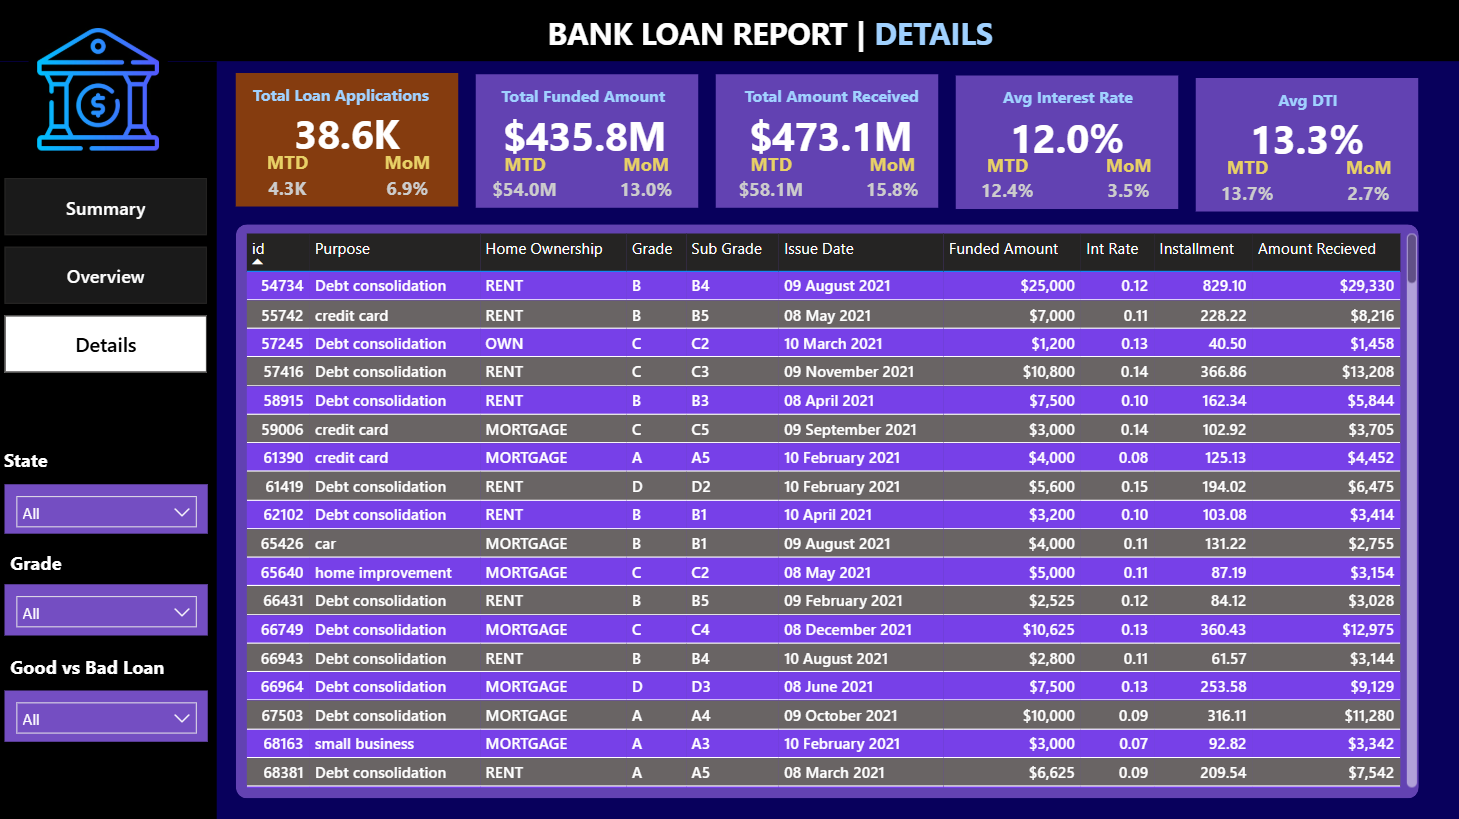

The dashboard page shown, as its layout file describes it:
{"tool":"powerbi","page":{"name":"Details","canvas":[1280,720],"ordinal":2},"visuals":[{"type":"shape","box":[0,0,1280.2,55.6],"z":0},{"type":"shape","box":[0,55.6,192,663.9],"z":1000},{"type":"textbox","box":[451.6,8.1,448.9,47.5],"z":2000},{"type":"shape","box":[208.3,65.3,194.4,116.7],"z":3000},{"type":"card","fields":{"Values":["bank_loan_data.Total Loan Applications"]},"box":[208.3,98.6,194.4,41.7],"z":4000},{"type":"textbox","box":[218.1,69.4,176.4,29.2],"z":5000},{"type":"card","title":"MTD","fields":{"Values":["bank_loan_data.MTD Loan Applications"]},"box":[218.1,131.9,70.8,50],"z":6000},{"type":"card","title":"MoM","fields":{"Values":["bank_loan_data.MoM Loan Applications"]},"box":[323.6,131.9,70.8,50],"z":7000},{"type":"shape","box":[418.2,66.4,194.4,116.7],"z":8000},{"type":"card","fields":{"Values":["bank_loan_data.Total Funded Amount"]},"box":[416.1,99.7,194.4,41.7],"z":9000},{"type":"textbox","box":[425.8,70.6,176.4,29.2],"z":10000},{"type":"card","title":"MTD","fields":{"Values":["bank_loan_data.MTD Funded Amount"]},"box":[425.8,133.1,70.8,50],"z":11000},{"type":"card","title":"MoM","fields":{"Values":["bank_loan_data.MoM Total Funded Amount"]},"box":[531.4,133.1,70.8,50],"z":12000},{"type":"shape","box":[628.1,66.5,194.4,116.7],"z":13000},{"type":"card","fields":{"Values":["bank_loan_data.Total Amount Recieved"]},"box":[631.4,99.8,194.4,41.7],"z":14000},{"type":"textbox","box":[641.1,70.7,176.4,29.2],"z":15000},{"type":"card","title":"MTD","fields":{"Values":["bank_loan_data.MTD Total Amount Received"]},"box":[641.1,133.2,70.8,50],"z":16000},{"type":"card","title":"MoM","fields":{"Values":["bank_loan_data.MoM Total Amount Received"]},"box":[746.7,133.2,70.8,50],"z":17000},{"type":"shape","box":[838,67.7,194.4,116.7],"z":18000},{"type":"card","fields":{"Values":["bank_loan_data.Avg Intrest Rate"]},"box":[837.9,101.1,194.4,41.7],"z":19000},{"type":"textbox","box":[847.6,71.9,176.4,29.2],"z":20000},{"type":"card","title":"MTD","fields":{"Values":["bank_loan_data.MTD Avg Intrest Rate"]},"box":[847.6,134.4,70.8,50],"z":21000},{"type":"card","title":"MoM","fields":{"Values":["bank_loan_data.MoM Avg Intrest Rate"]},"box":[953.2,134.4,70.8,50],"z":22000},{"type":"shape","box":[1047.9,69.7,194.4,116.7],"z":23000},{"type":"card","fields":{"Values":["bank_loan_data.Avg DTI"]},"box":[1047.9,103.1,194.4,41.7],"z":24000},{"type":"textbox","box":[1057.6,73.9,176.4,29.2],"z":25000},{"type":"card","title":"MTD","fields":{"Values":["bank_loan_data.MTD Avg DTI"]},"box":[1057.6,136.4,70.8,50],"z":26000},{"type":"card","title":"MoM","fields":{"Values":["bank_loan_data.MoM Avg DTI"]},"box":[1163.2,136.4,70.8,50],"z":27000},{"type":"slicer","fields":{"Values":["bank_loan_data.address_state"]},"box":[6.8,424.5,177.7,43.4],"z":28000},{"type":"textbox","box":[1.4,387.9,88.2,36.6],"z":29000},{"type":"slicer","fields":{"Values":["bank_loan_data.grade"]},"box":[6.8,512.7,177.7,44.8],"z":30000},{"type":"textbox","box":[6.8,477.4,89.5,35.3],"z":31000},{"type":"textbox","box":[6.8,568.3,160,36.6],"z":32000},{"type":"slicer","fields":{"Values":["bank_loan_data.Good vs Bad Loan"]},"box":[6.8,604.9,177.7,44.8],"z":33000},{"type":"shape","box":[208.7,197.9,1033.9,501.9],"z":34000},{"type":"tableEx","fields":{"Values":["bank_loan_data.id","bank_loan_data.purpose","bank_loan_data.home_ownership","bank_loan_data.grade","bank_loan_data.sub_grade","bank_loan_data.issue_date","bank_loan_data.Total Funded Amount","Sum(bank_loan_data.int_rate)","Sum(bank_loan_data.installment)","bank_loan_data.Total Amount Recieved"]},"box":[212.3,201.5,1033.9,493.4],"z":35000},{"type":"image","box":[16.3,19,143.8,122.1],"z":36000},{"type":"pageNavigator","box":[6.8,157.3,177.7,170.9],"z":37000}]}

Visuals, with their boxes in screenshot pixels (x1, y1, x2, y2), scaled from the page's 1280x720 canvas onto the 1459x819 screenshot:
shape: x1=0 y1=0 x2=1458 y2=63
shape: x1=0 y1=63 x2=219 y2=818
textbox: x1=515 y1=9 x2=1026 y2=63
shape: x1=237 y1=74 x2=459 y2=207
card - bank_loan_data.Total Loan Applications: x1=237 y1=112 x2=459 y2=160
textbox: x1=249 y1=79 x2=450 y2=112
"MTD" card: x1=249 y1=150 x2=329 y2=207
"MoM" card: x1=369 y1=150 x2=450 y2=207
shape: x1=477 y1=76 x2=698 y2=208
card - bank_loan_data.Total Funded Amount: x1=474 y1=113 x2=696 y2=161
textbox: x1=485 y1=80 x2=686 y2=114
"MTD" card: x1=485 y1=151 x2=566 y2=208
"MoM" card: x1=606 y1=151 x2=686 y2=208
shape: x1=716 y1=76 x2=938 y2=208
card - bank_loan_data.Total Amount Recieved: x1=720 y1=114 x2=941 y2=161
textbox: x1=731 y1=80 x2=932 y2=114
"MTD" card: x1=731 y1=152 x2=811 y2=208
"MoM" card: x1=851 y1=152 x2=932 y2=208
shape: x1=955 y1=77 x2=1177 y2=210
card - bank_loan_data.Avg Intrest Rate: x1=955 y1=115 x2=1177 y2=162
textbox: x1=966 y1=82 x2=1167 y2=115
"MTD" card: x1=966 y1=153 x2=1047 y2=210
"MoM" card: x1=1086 y1=153 x2=1167 y2=210
shape: x1=1194 y1=79 x2=1416 y2=212
card - bank_loan_data.Avg DTI: x1=1194 y1=117 x2=1416 y2=165
textbox: x1=1205 y1=84 x2=1407 y2=117
"MTD" card: x1=1205 y1=155 x2=1286 y2=212
"MoM" card: x1=1326 y1=155 x2=1407 y2=212
slicer - bank_loan_data.address_state: x1=8 y1=483 x2=210 y2=532
textbox: x1=2 y1=441 x2=102 y2=483
slicer - bank_loan_data.grade: x1=8 y1=583 x2=210 y2=634
textbox: x1=8 y1=543 x2=110 y2=583
textbox: x1=8 y1=646 x2=190 y2=688
slicer - bank_loan_data.Good vs Bad Loan: x1=8 y1=688 x2=210 y2=739
shape: x1=238 y1=225 x2=1416 y2=796
tableEx - bank_loan_data.id x bank_loan_data.purpose: x1=242 y1=229 x2=1420 y2=790
image: x1=19 y1=22 x2=182 y2=161
pageNavigator: x1=8 y1=179 x2=210 y2=373
